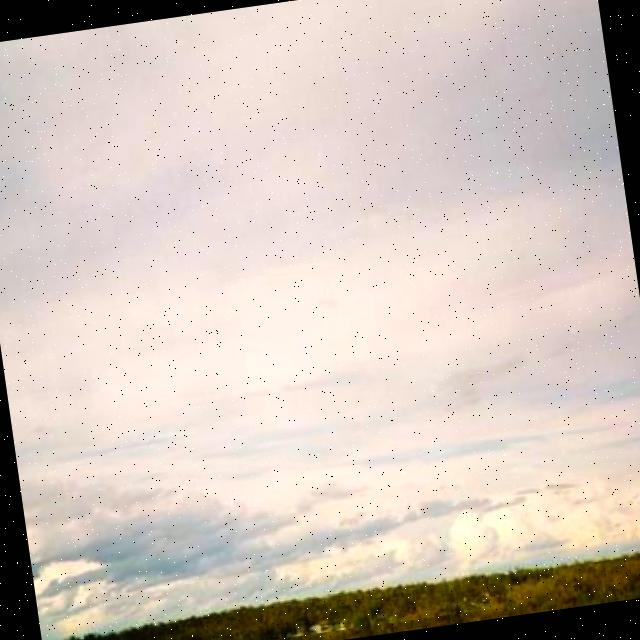Cs: (1, 55, 640, 626)
